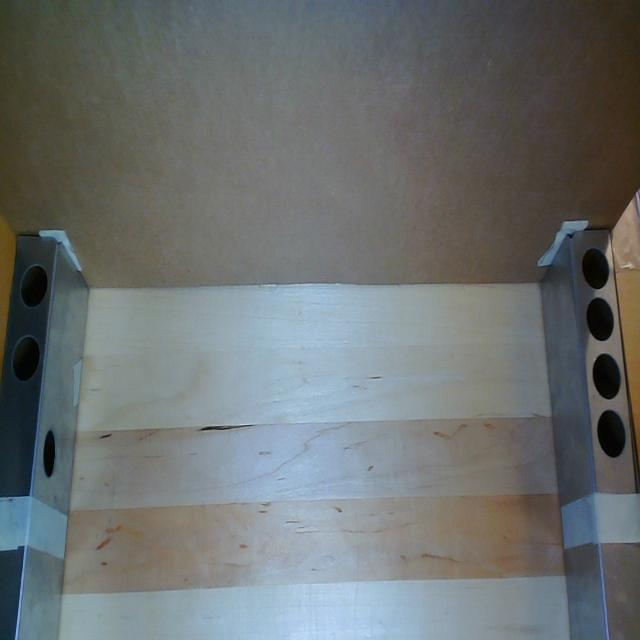Hole: (593, 407, 629, 464), (582, 294, 619, 343), (10, 332, 43, 383), (590, 351, 622, 402), (20, 256, 49, 310), (580, 242, 611, 288), (39, 421, 59, 485)
